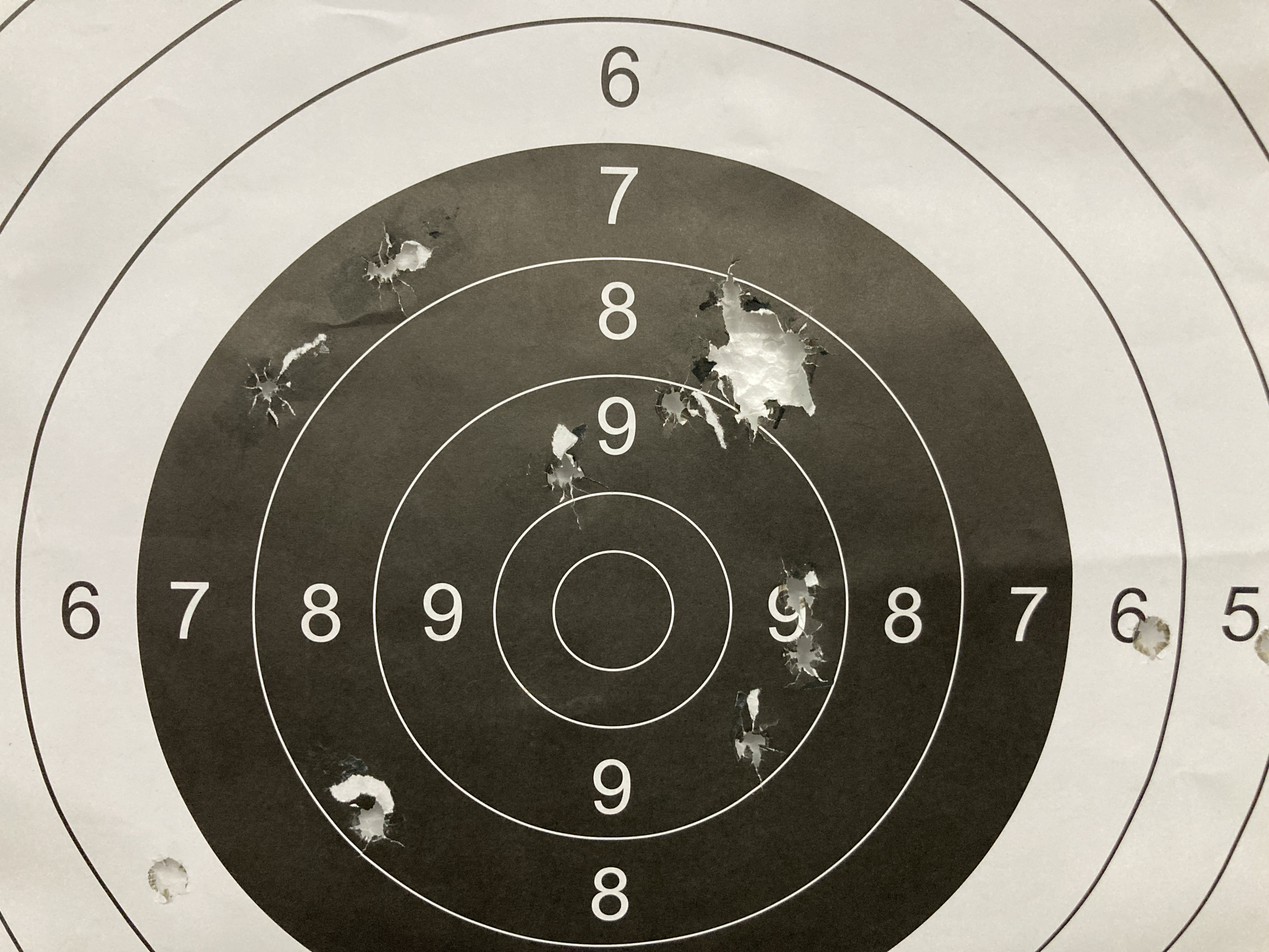hole: (680, 249, 837, 447), (302, 759, 415, 866), (743, 551, 850, 636), (343, 214, 444, 299), (227, 346, 312, 438), (721, 708, 806, 800), (522, 434, 601, 513), (629, 365, 699, 447), (759, 630, 856, 689), (1117, 604, 1193, 671), (129, 847, 198, 907), (1249, 611, 1269, 680)
